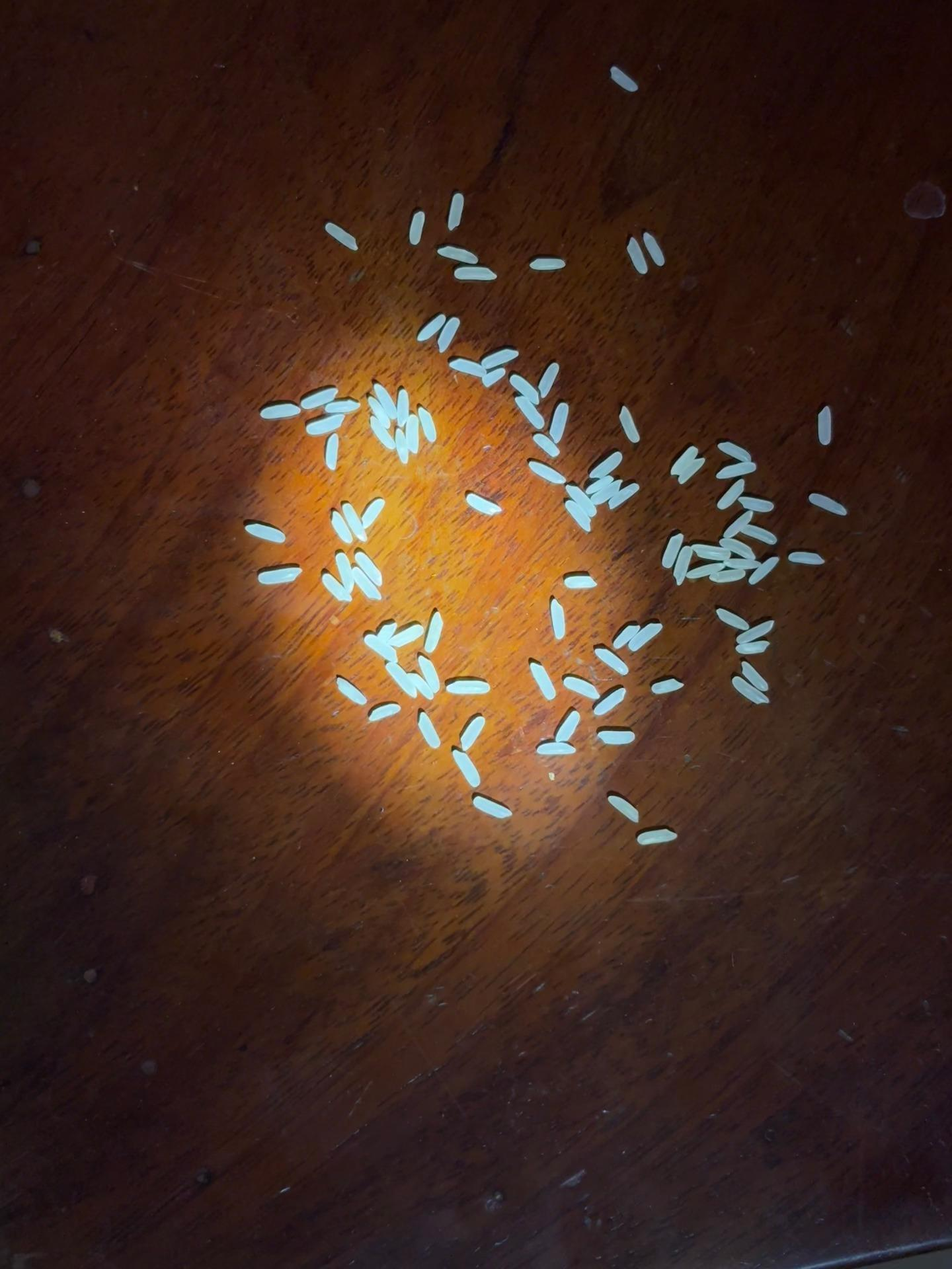Rice-th-y-nh: (386, 662, 416, 698), (452, 750, 481, 787), (732, 677, 769, 704), (566, 485, 597, 517), (530, 663, 556, 700), (342, 504, 367, 541), (629, 623, 662, 651), (356, 552, 383, 586), (717, 479, 746, 510), (671, 546, 694, 585), (516, 397, 544, 429), (353, 568, 381, 600), (325, 223, 358, 250), (595, 648, 629, 674), (335, 553, 356, 595), (460, 716, 485, 751), (510, 375, 539, 405), (594, 688, 626, 715), (809, 494, 848, 516), (737, 621, 774, 644), (322, 574, 351, 603), (749, 557, 779, 585), (670, 446, 698, 476), (473, 797, 511, 819), (418, 656, 440, 694), (590, 452, 622, 478), (369, 417, 395, 449), (374, 384, 397, 420), (307, 414, 344, 436), (741, 662, 769, 691), (337, 678, 367, 705), (365, 635, 396, 661), (564, 677, 599, 700), (566, 500, 591, 532), (418, 713, 440, 749), (417, 315, 446, 342), (724, 511, 753, 538), (609, 483, 639, 509), (609, 796, 639, 822), (591, 480, 621, 506), (302, 388, 337, 410), (556, 711, 580, 743), (425, 612, 444, 652), (720, 538, 756, 559), (438, 318, 460, 352), (662, 534, 684, 568), (643, 232, 665, 266), (246, 524, 285, 543), (619, 407, 640, 442), (530, 462, 565, 483), (258, 568, 301, 585), (610, 66, 638, 92), (678, 458, 706, 484), (550, 404, 569, 442), (450, 358, 486, 378), (438, 246, 478, 264), (716, 608, 748, 630), (408, 673, 434, 700), (627, 238, 647, 273), (742, 524, 777, 544), (390, 626, 423, 647), (368, 397, 390, 428), (718, 442, 752, 462), (539, 363, 559, 397), (331, 512, 352, 544), (717, 462, 756, 479), (467, 495, 500, 515), (447, 680, 490, 695), (362, 499, 384, 528), (454, 266, 496, 281), (613, 625, 639, 649), (693, 545, 732, 561), (418, 407, 436, 441), (688, 562, 724, 579), (533, 434, 559, 457), (482, 350, 517, 367), (739, 496, 774, 513), (448, 193, 464, 230), (817, 407, 833, 444), (536, 741, 575, 756), (637, 829, 676, 844), (261, 404, 300, 419), (551, 599, 565, 639), (395, 389, 410, 426), (369, 704, 400, 721), (405, 416, 419, 453), (709, 569, 746, 583), (410, 211, 425, 245), (394, 429, 409, 463), (325, 400, 360, 414), (725, 557, 760, 571), (598, 731, 635, 744), (585, 477, 613, 494), (652, 679, 683, 694), (325, 434, 338, 469), (736, 641, 770, 654), (788, 552, 824, 564), (483, 368, 505, 387), (530, 259, 565, 270), (377, 623, 396, 643), (565, 576, 596, 588)
